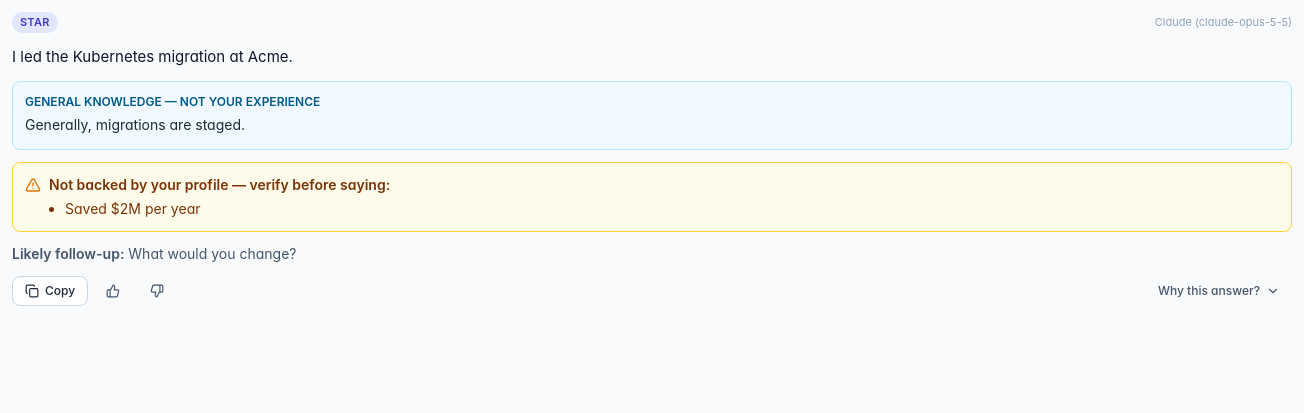
Test: SuggestedAnswer › copies, rates, and explains "Why this answer?"
The image size is (1304, 413).
Click the button "Copy": (50, 291) [12, 276, 88, 306]
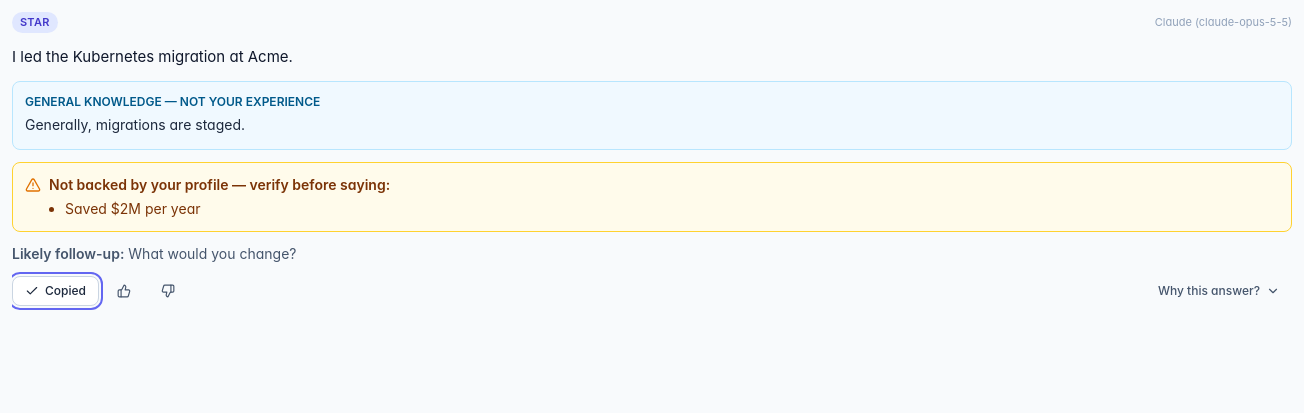
Expected: the button "Copied" is shown, [12, 276, 99, 306]
Click the button named "mark answer as useful": (124, 291) [105, 278, 143, 304]
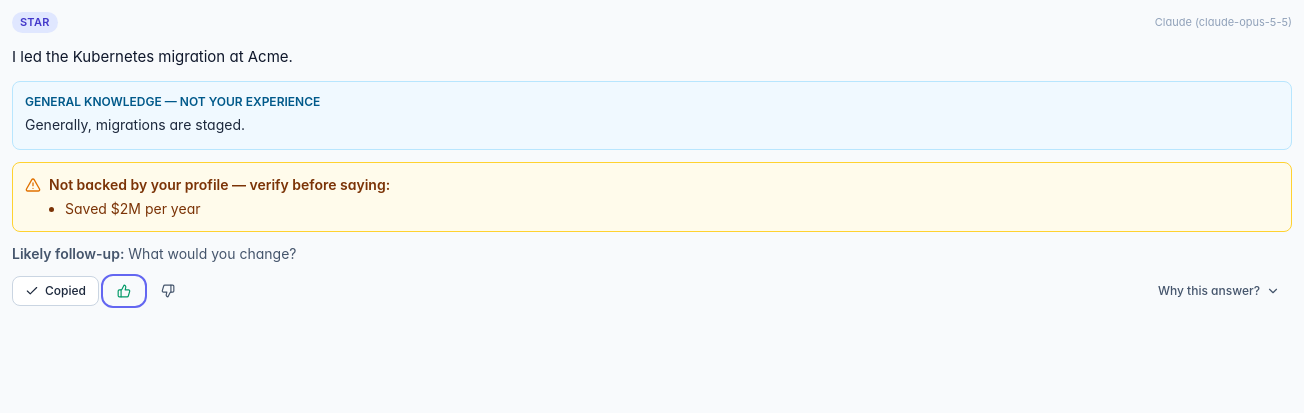
Expected: the button named "mark answer as useful" is pressed, [105, 278, 143, 304]
Click the button "Why this answer?": (1219, 291) [1146, 277, 1292, 305]
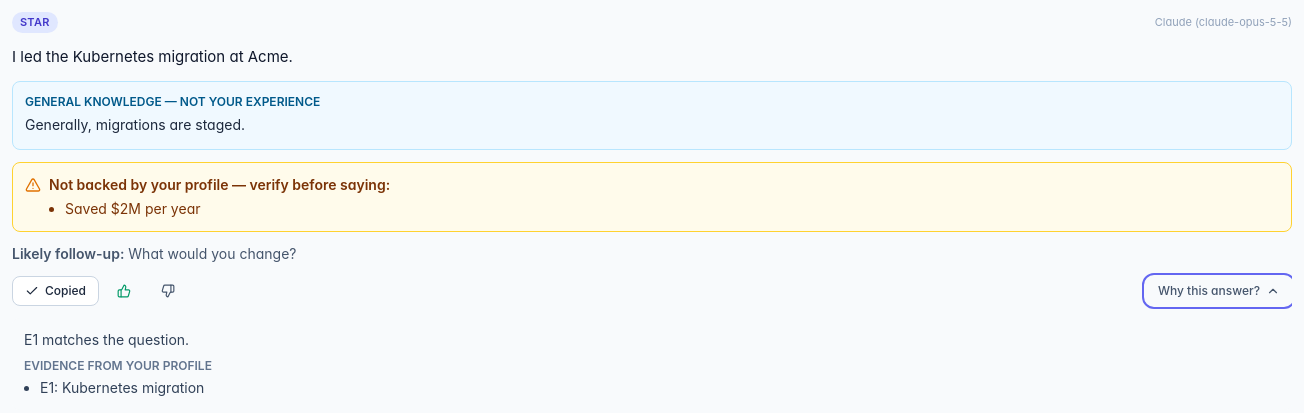
Expected: the element with test id "why-panel" shows "E1: Kubernetes migration", [40, 379, 204, 396]
